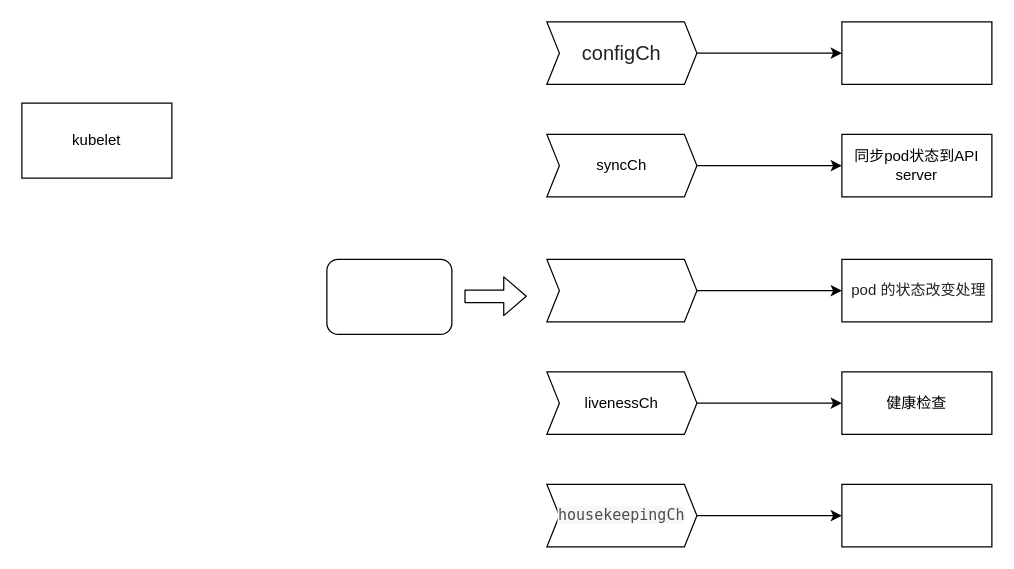
This 1014x569 diagram has some shape labels left out. Each missing label, with the centre of its shape:
GC 容器gc 镜像gc: (916,515)
plegCh: (621,290)
syncLoop: (389,296)
接收任务: (916,52)
